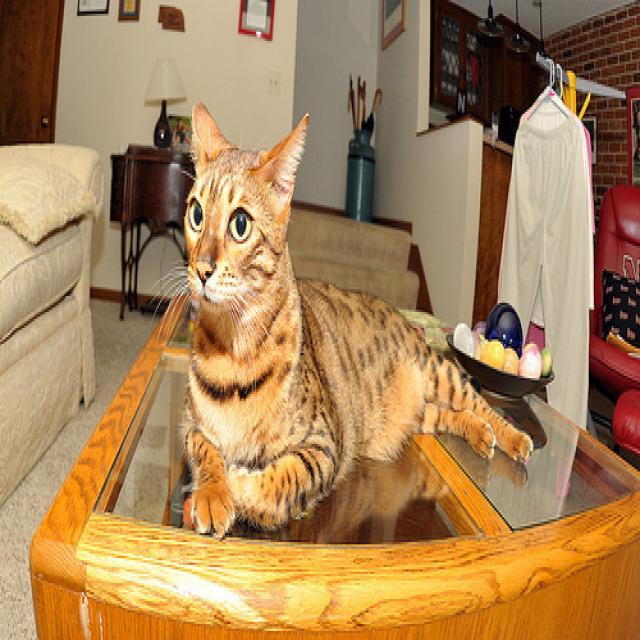Bengal: (177, 92, 314, 322)
